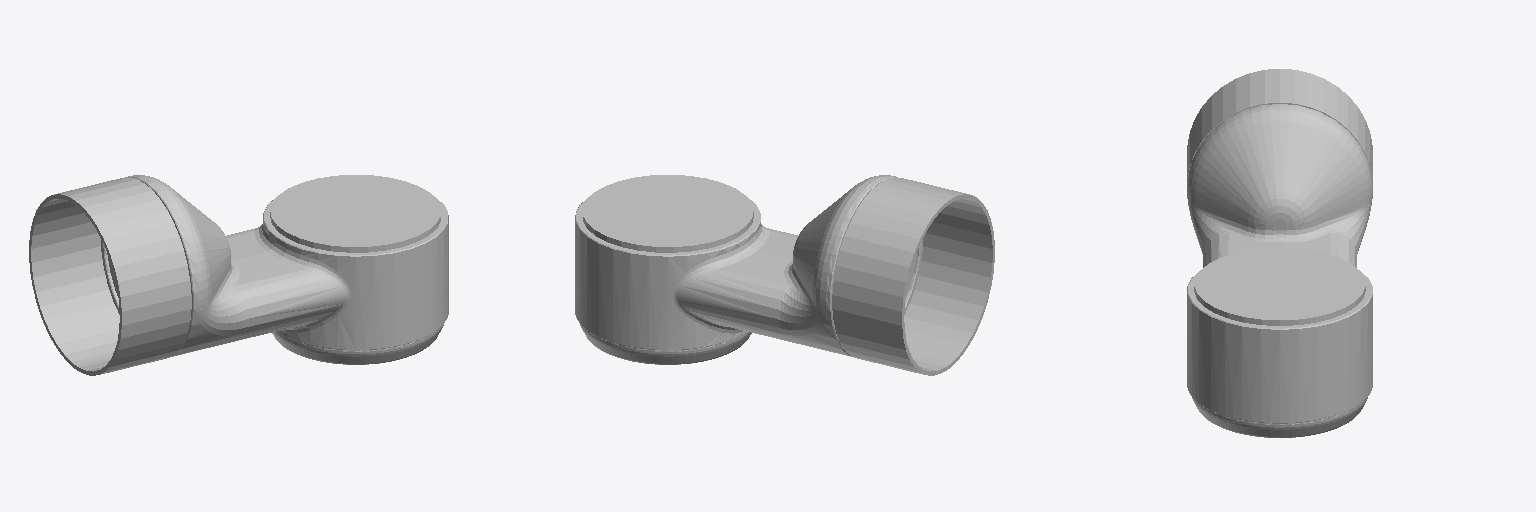
The model's file is upperarm_roll_link.obj.
3 renders of one model, left to right at view 1: azimuth 30°, elevation 25°; view 2: azimuth 150°, elevation 25°; view 3: azimuth 270°, elevation 25°, orthographic.
Parts seen in each view (by area): view 1: upperarm_roll_link_upperarm roll link.001_Material_001.035; view 2: upperarm_roll_link_upperarm roll link.001_Material_001.035; view 3: upperarm_roll_link_upperarm roll link.001_Material_001.035.
Boxes of the visible parts, x1=… form: upperarm_roll_link_upperarm roll link.001_Material_001.035: x1=29, y1=175, x2=448, y2=375; upperarm_roll_link_upperarm roll link.001_Material_001.035: x1=575, y1=175, x2=994, y2=375; upperarm_roll_link_upperarm roll link.001_Material_001.035: x1=1187, y1=69, x2=1372, y2=437.
Size of the model in its own units: 0.233 by 0.1225 by 0.104.